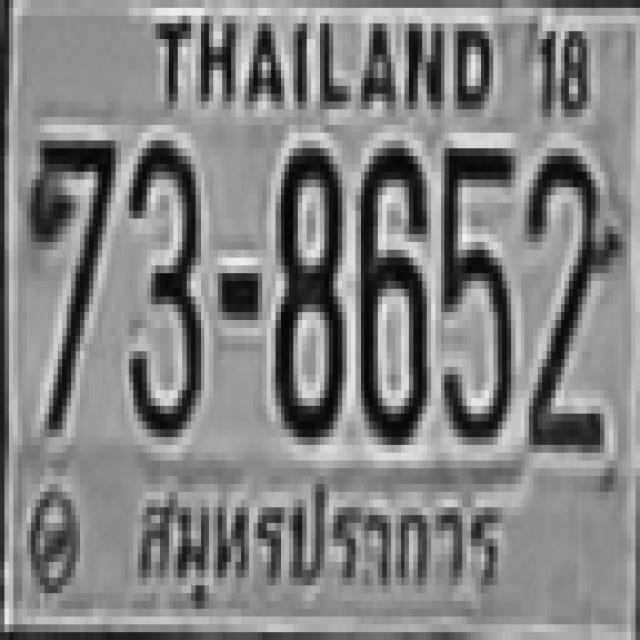2: (522, 140, 624, 445), (524, 140, 609, 445)
3: (124, 133, 196, 429)
5: (438, 141, 513, 437)
6: (356, 141, 422, 437)
7: (29, 133, 113, 429)
8: (271, 141, 342, 437)
SamutPrakan: (129, 460, 508, 610)
